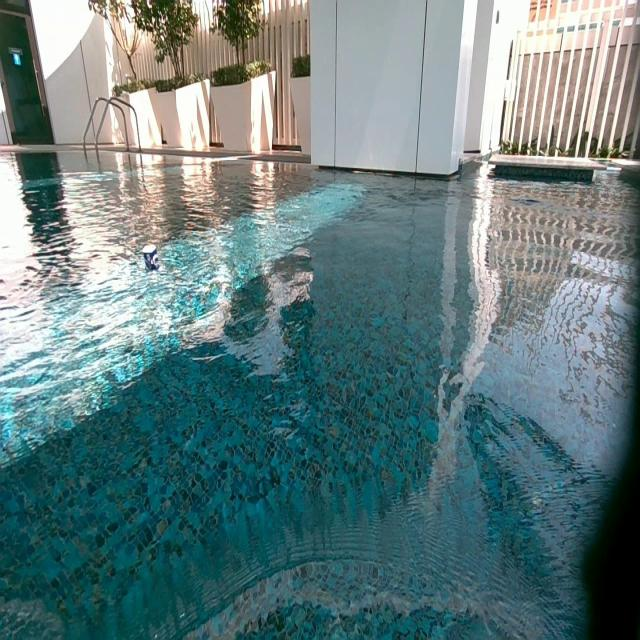Cans: (144, 248, 160, 268)
